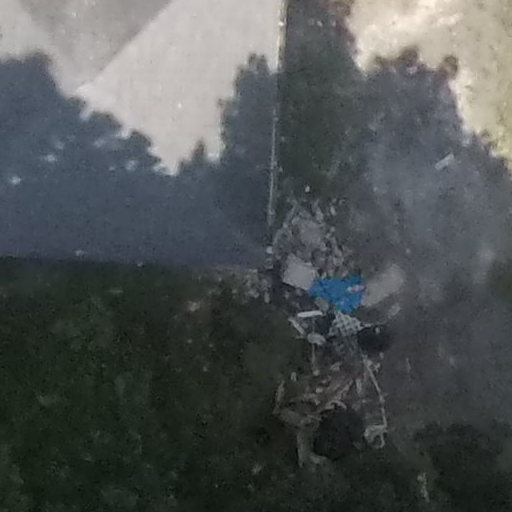trash: (229, 183, 418, 465)
